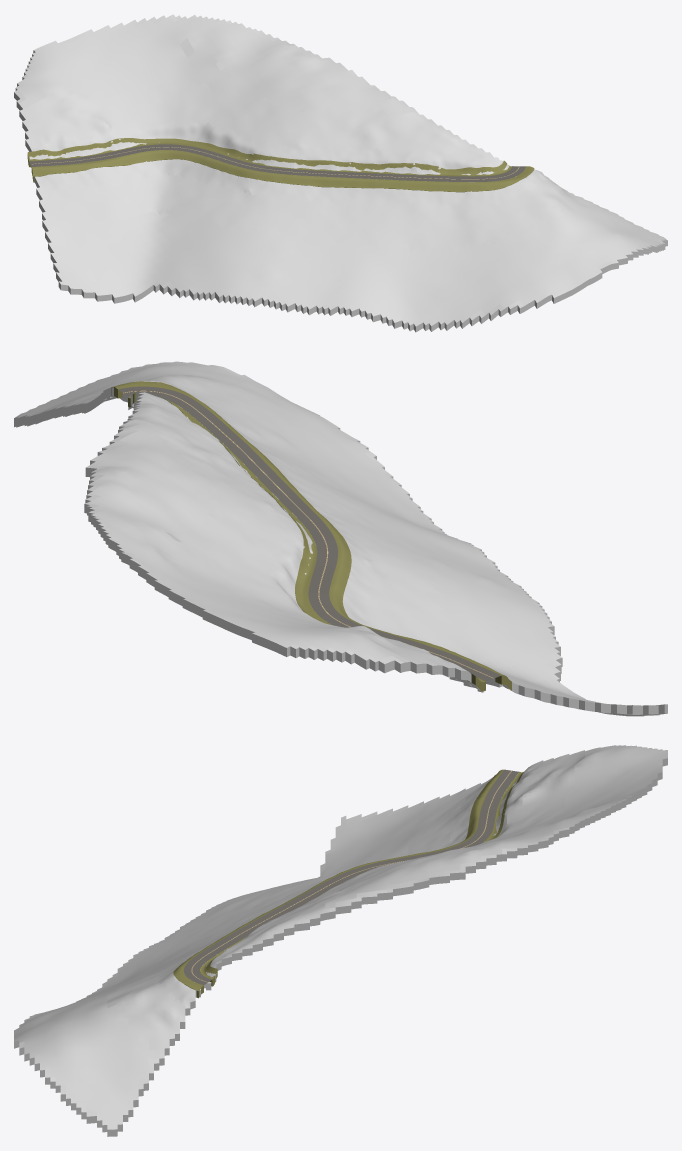
File: conz_206.glb
The picture shows the model from 3 angles, top to bottom: view 1: azimuth 30°, elevation 25°; view 2: azimuth 150°, elevation 25°; view 3: azimuth 270°, elevation 25°; orthographic projection. The views are drawn at different scales.
Parts seen in each view (by area): view 1: terrain206, verge206R, verge206L, road206; view 2: terrain206, road206, verge206R, verge206L, paint_yellow206; view 3: terrain206, road206, verge206R, verge206L.
Boxes of the visible parts, box(x1,y1,x2,y2) form: terrain206: box(14, 14, 667, 332); verge206R: box(31, 150, 534, 192); verge206L: box(27, 138, 512, 176); road206: box(29, 144, 525, 181); terrain206: box(14, 361, 667, 716); road206: box(118, 386, 501, 681); verge206R: box(111, 381, 511, 690); verge206L: box(128, 392, 485, 691); paint_yellow206: box(123, 390, 493, 678); terrain206: box(14, 745, 667, 1136); road206: box(183, 769, 519, 985); verge206R: box(173, 769, 503, 998); verge206L: box(200, 767, 528, 986).
Size of the model in its own units: 274 by 82 by 252.
